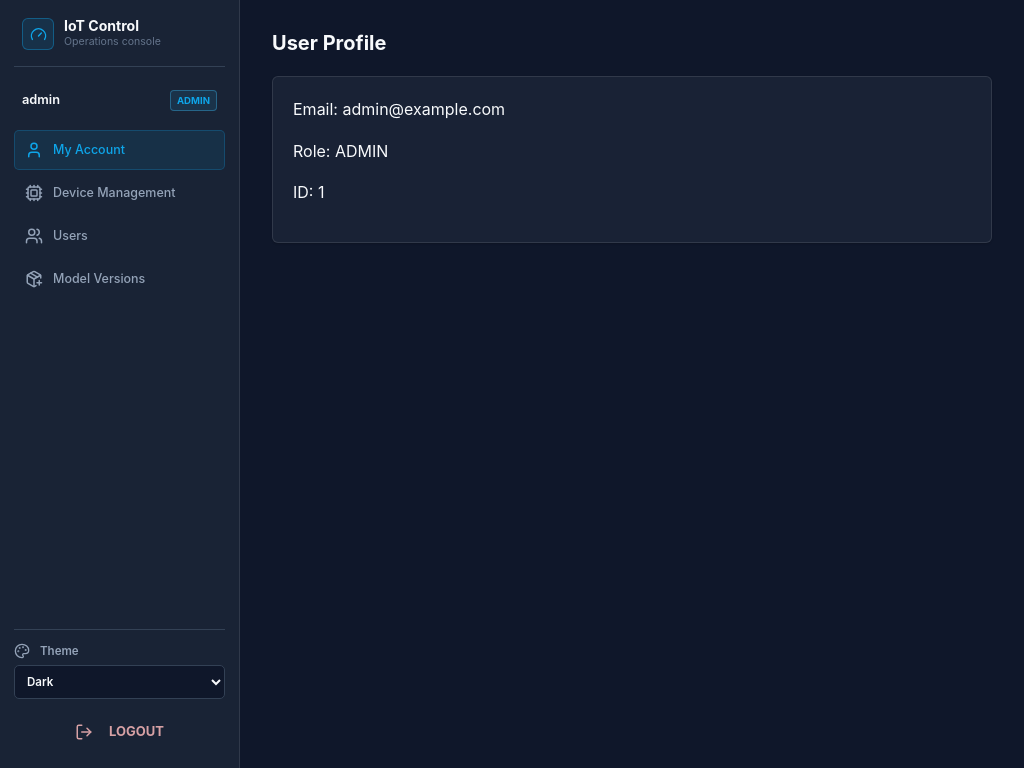
it: Admin User Management › should delete an approved user
The width and height of the screenshot is (1024, 768).
Click the button "Users" at (120, 236), box [14,216,225,256]
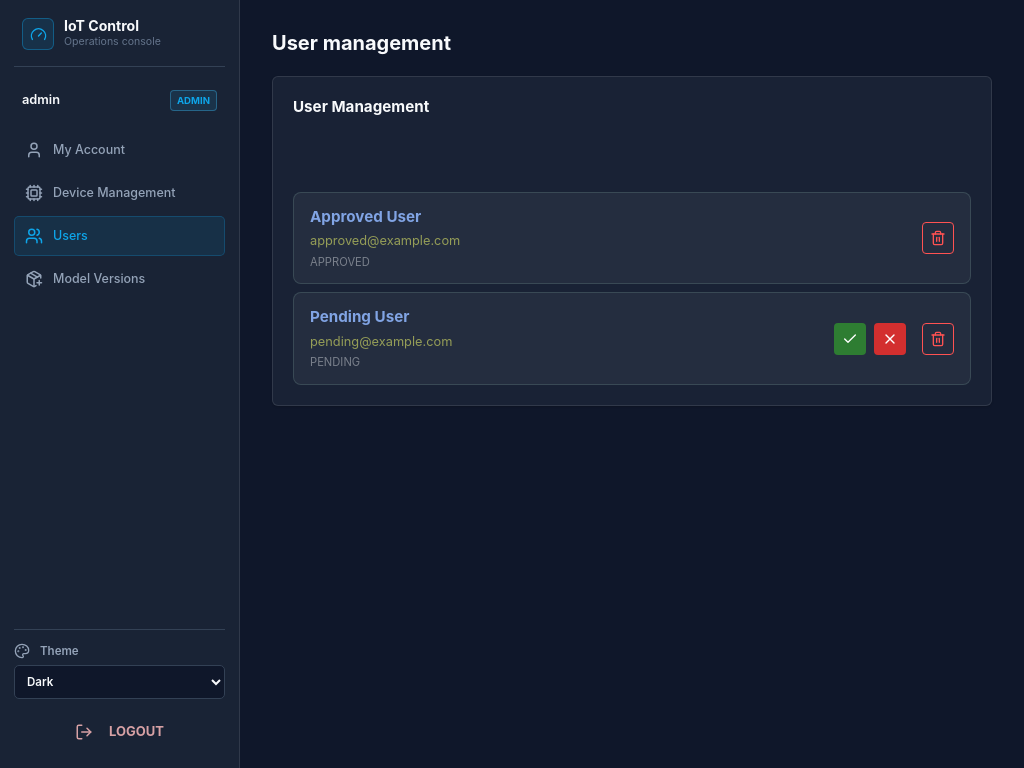
Check: the heading "User Management" is shown, box [293,97,429,116]
Click the button titled "Obriši" in the row of "approved@example.com" at (938, 238), box [922,222,954,254]
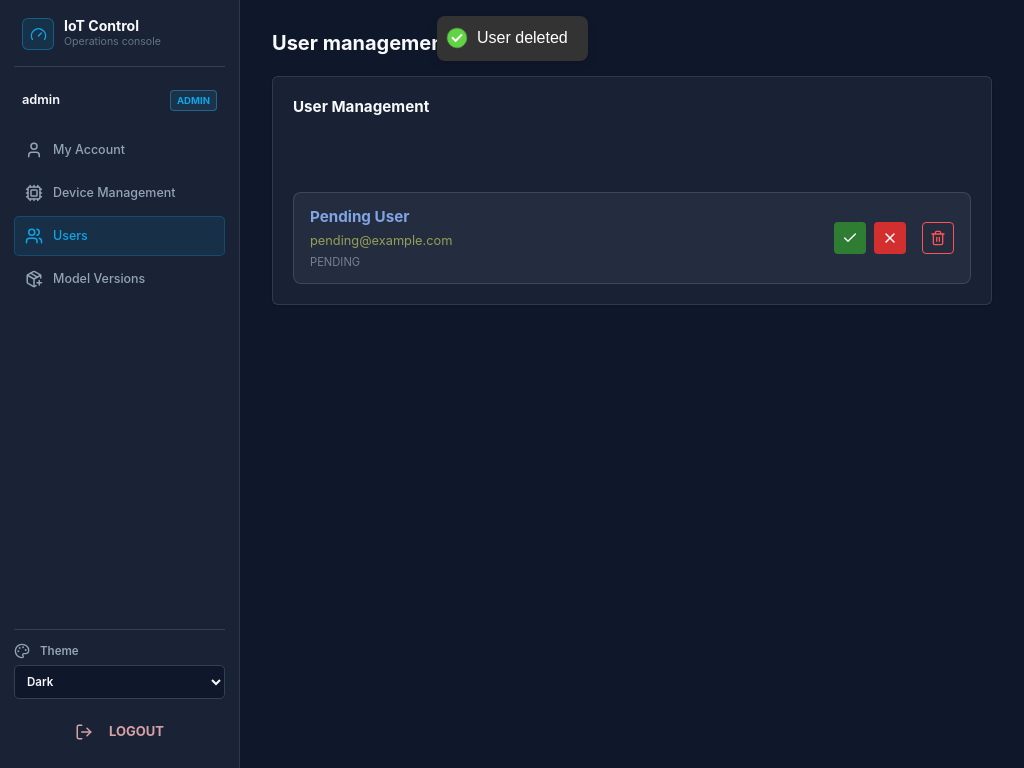
Check: the text "approved@example.com" is gone
Check: the text "User deleted" is shown, box [477,28,567,49]
